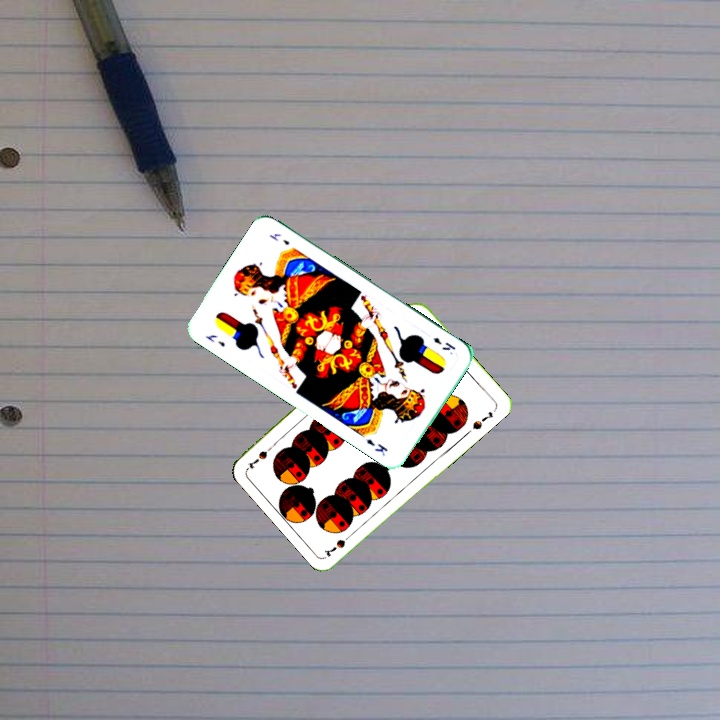EK: (429, 333, 458, 353), (201, 330, 228, 350)
S7: (320, 528, 356, 559)
